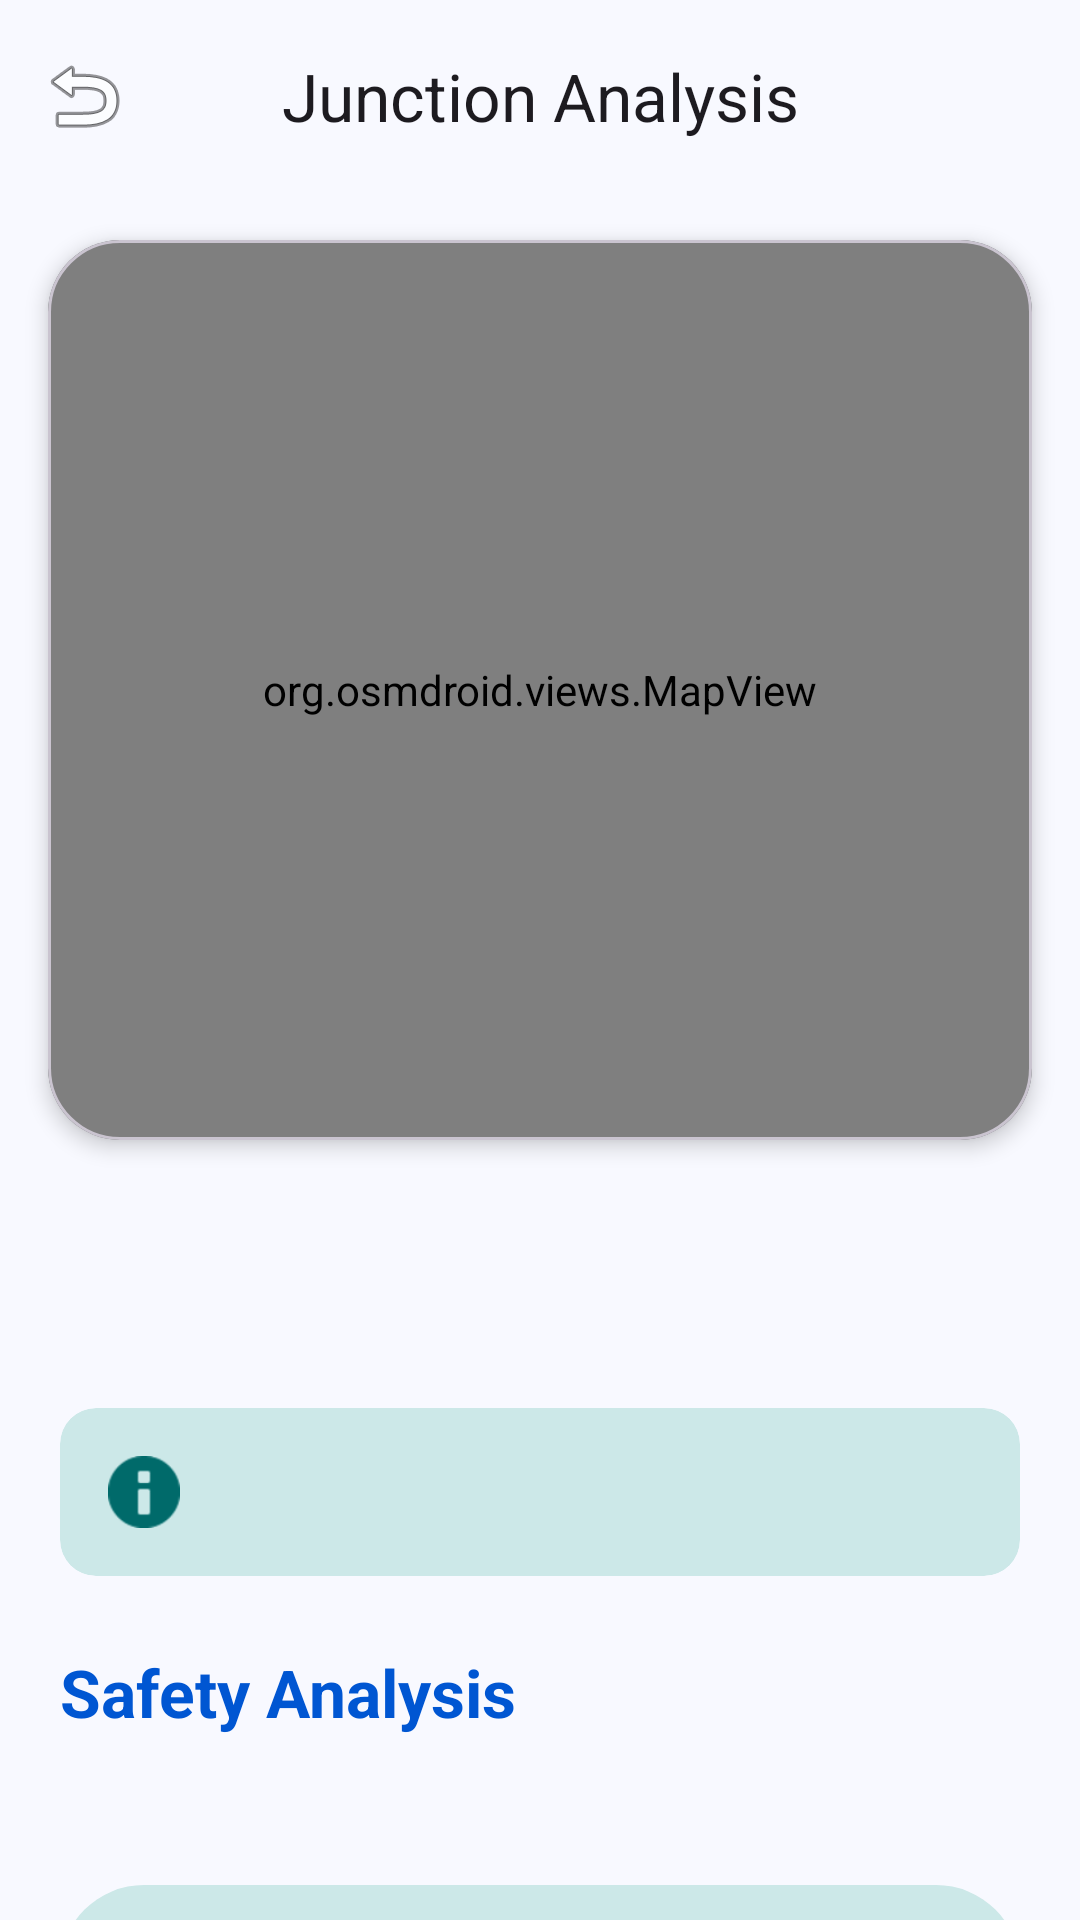

Icon click points for this 1080*1920 phone screenshot, format (x=x, y=y):
info: (x=144, y=1492)
